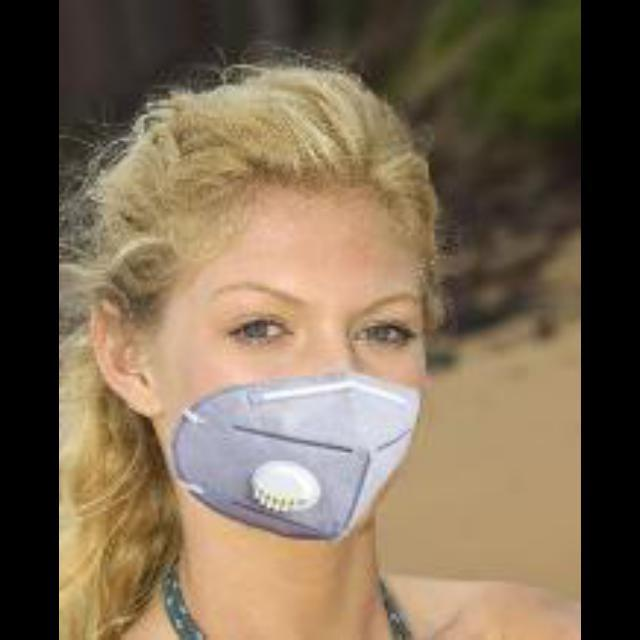suspicion: (101, 102, 476, 548)
